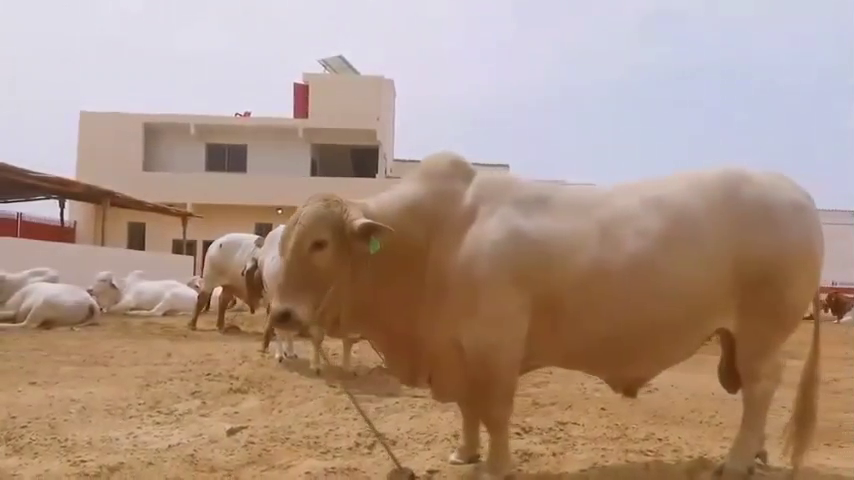bo: (254, 145, 848, 477), (245, 229, 362, 383), (180, 218, 258, 333), (83, 254, 202, 324), (6, 273, 102, 331), (2, 250, 62, 294), (186, 271, 238, 311)
